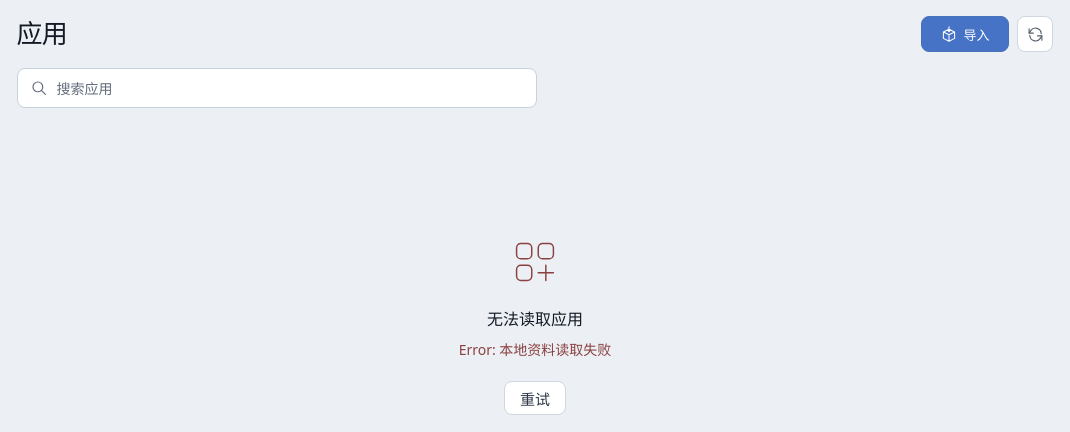
Test: 个人应用 › 读取失败明确显示错误并支持重试，不冒充空目录
This screenshot has width=1070, height=432.
expect the text "无法读取应用" is shown: met, box x1=487 y1=306 x2=583 y2=330
Click the button "重试" at coordinates (535, 398), box x1=504 y1=382 x2=566 y2=416
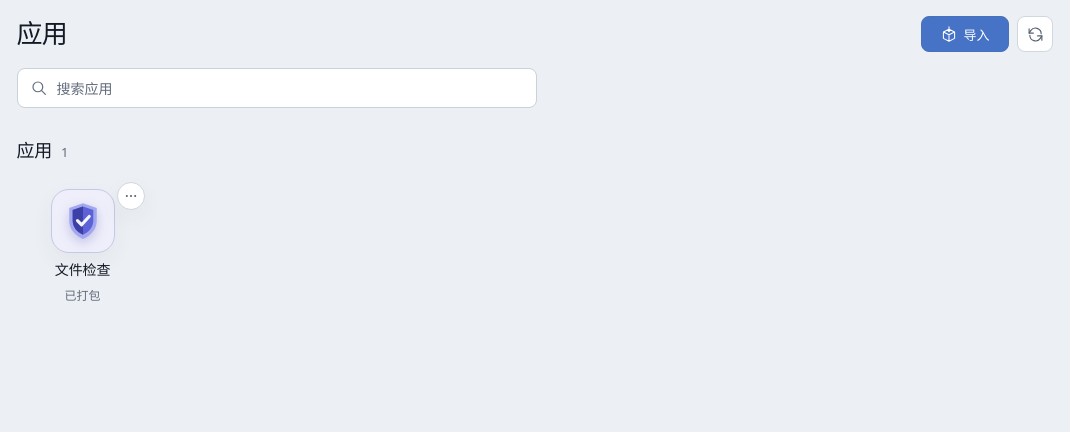
expect the button with aria-label "文件检查，安装" is shown: met, box x1=17 y1=178 x2=149 y2=316
